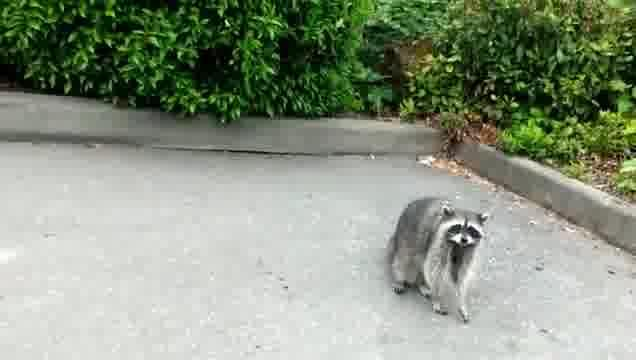raccoon: (388, 197, 490, 324)
